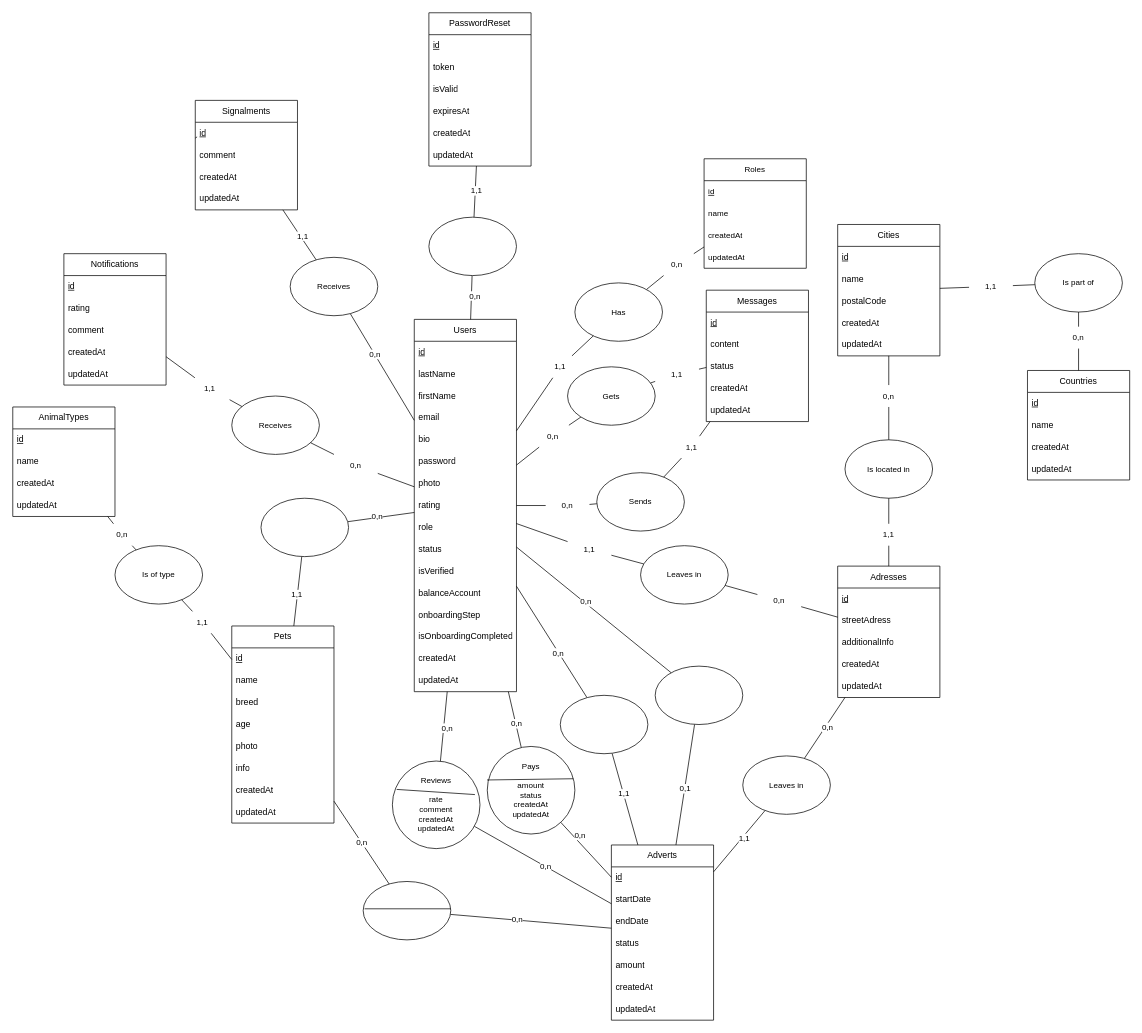
The diagram is 1142 pixels wide and 1033 high, and some of its shapes have lost their labels. Each missing label, with the centre of its shape:
Belongs createdAt updatedAt: (x=406, y=910)
Belongs to: (x=304, y=527)
Makes: (x=604, y=724)
Reserves: (x=698, y=695)
Resets: (x=472, y=246)
